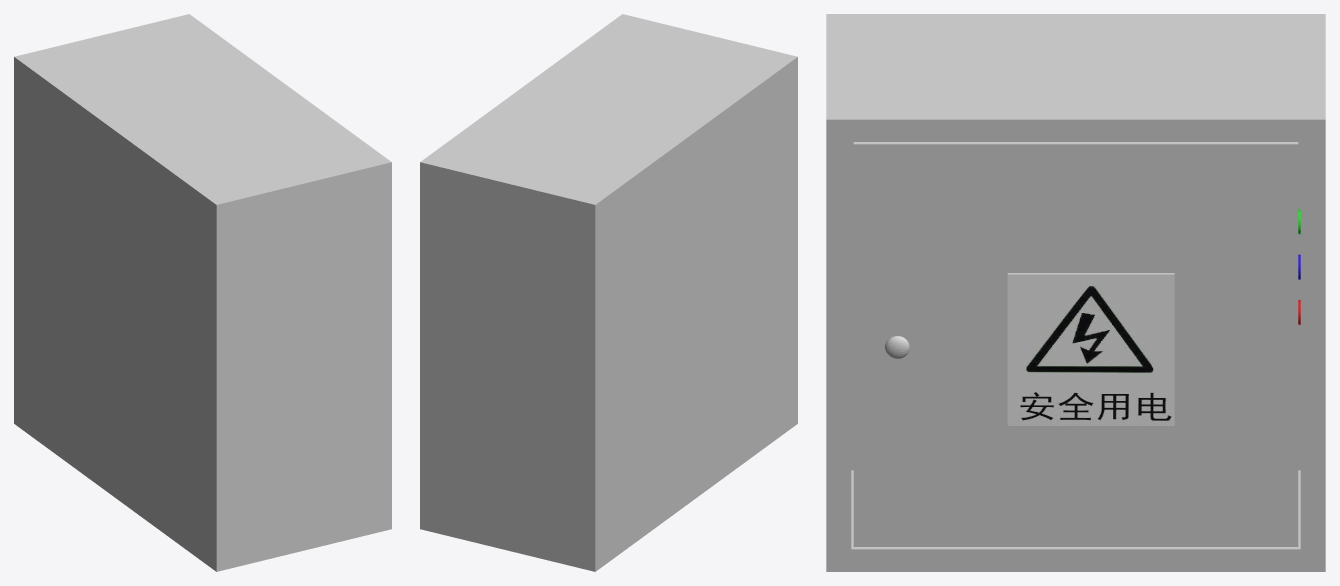
The model's file is powerBox.fbx.
The picture shows the model from 3 angles, left to right: view 1: azimuth 30°, elevation 25°; view 2: azimuth 150°, elevation 25°; view 3: azimuth 270°, elevation 25°; orthographic projection. The views are drawn at different scales.
Parts seen in each view (by area): view 1: Box; view 2: Box; view 3: powerBoxDoor, Box.
Part boxes in pixels (x1,y1,x2,y2): Box: (14, 14, 391, 571); Box: (420, 14, 797, 571); powerBoxDoor: (853, 142, 1298, 546); Box: (826, 14, 1325, 571).
Bounding box in the file's own units: 208 × 400 × 400.
Materials: 8 (1 with a texture image).
